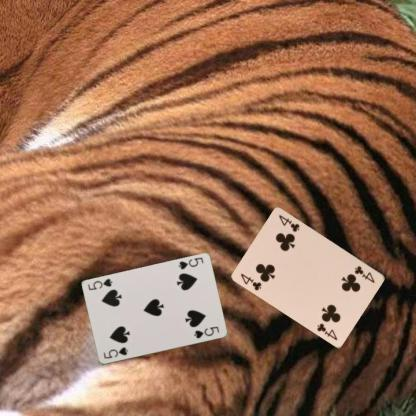4c: (238, 271, 263, 292), (352, 263, 376, 284)
5s: (176, 255, 204, 271), (100, 345, 129, 360)
